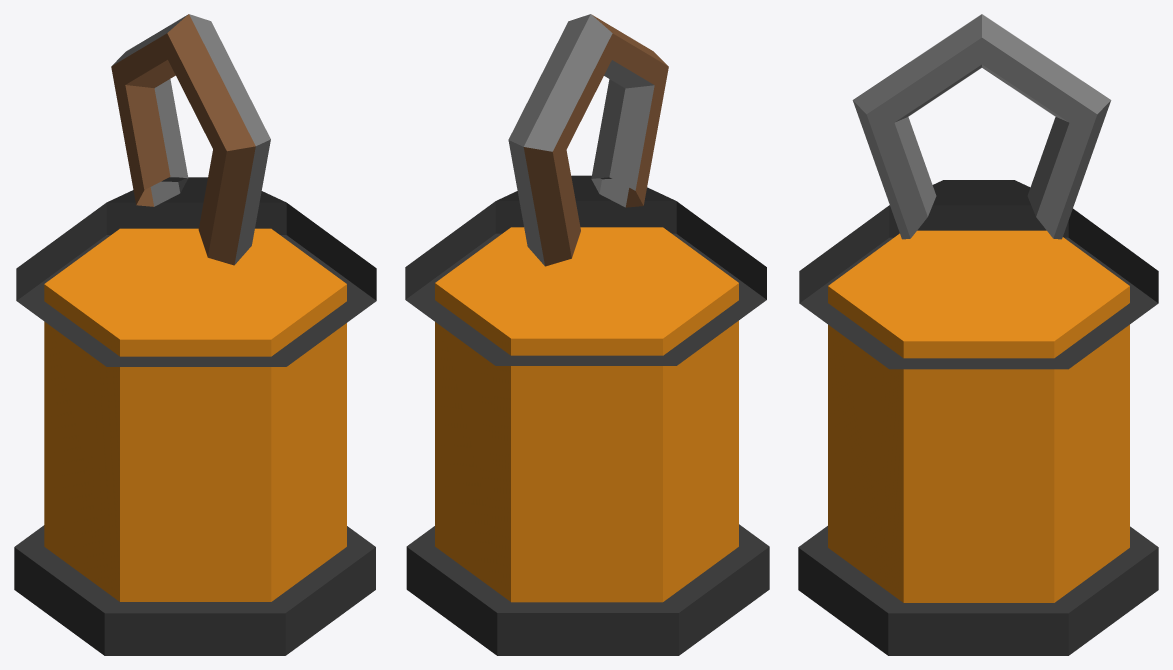
Rendered from LanternHandhel.fbx.
The picture shows the model from 3 angles, left to right: view 1: azimuth 30°, elevation 25°; view 2: azimuth 150°, elevation 25°; view 3: azimuth 270°, elevation 25°; orthographic projection.
Parts seen in each view (by area): view 1: Cube.001; view 2: Cube.001; view 3: Cube.001.
Boxes of the visible parts, <box> form: Cube.001: <box>14,14,376,655</box>; Cube.001: <box>405,14,769,655</box>; Cube.001: <box>798,14,1158,655</box>.
Bounding box in the file's own units: 40.82 × 82.41 × 46.94.
